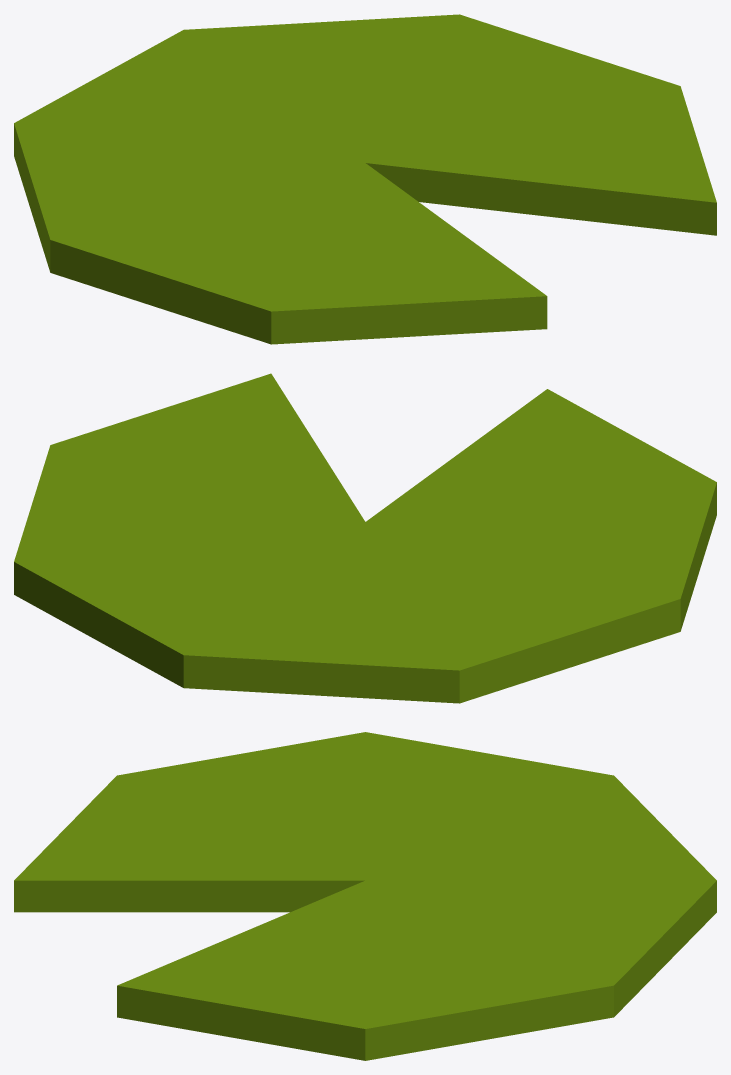
Rendered from Lowpoly_Lillypad_01.fbx.
3 views of the same model, one above another, from view 1: azimuth 30°, elevation 25°; view 2: azimuth 150°, elevation 25°; view 3: azimuth 270°, elevation 25° (orthographic). The views are drawn at different scales.
Parts seen in each view (by area): view 1: Cylinder.002; view 2: Cylinder.002; view 3: Cylinder.002.
Boxes of the visible parts, x1=… form: Cylinder.002: x1=14, y1=14, x2=716, y2=344; Cylinder.002: x1=14, y1=373, x2=716, y2=703; Cylinder.002: x1=14, y1=732, x2=716, y2=1060.
Bounding box in the file's own units: 200 × 10 × 200.
